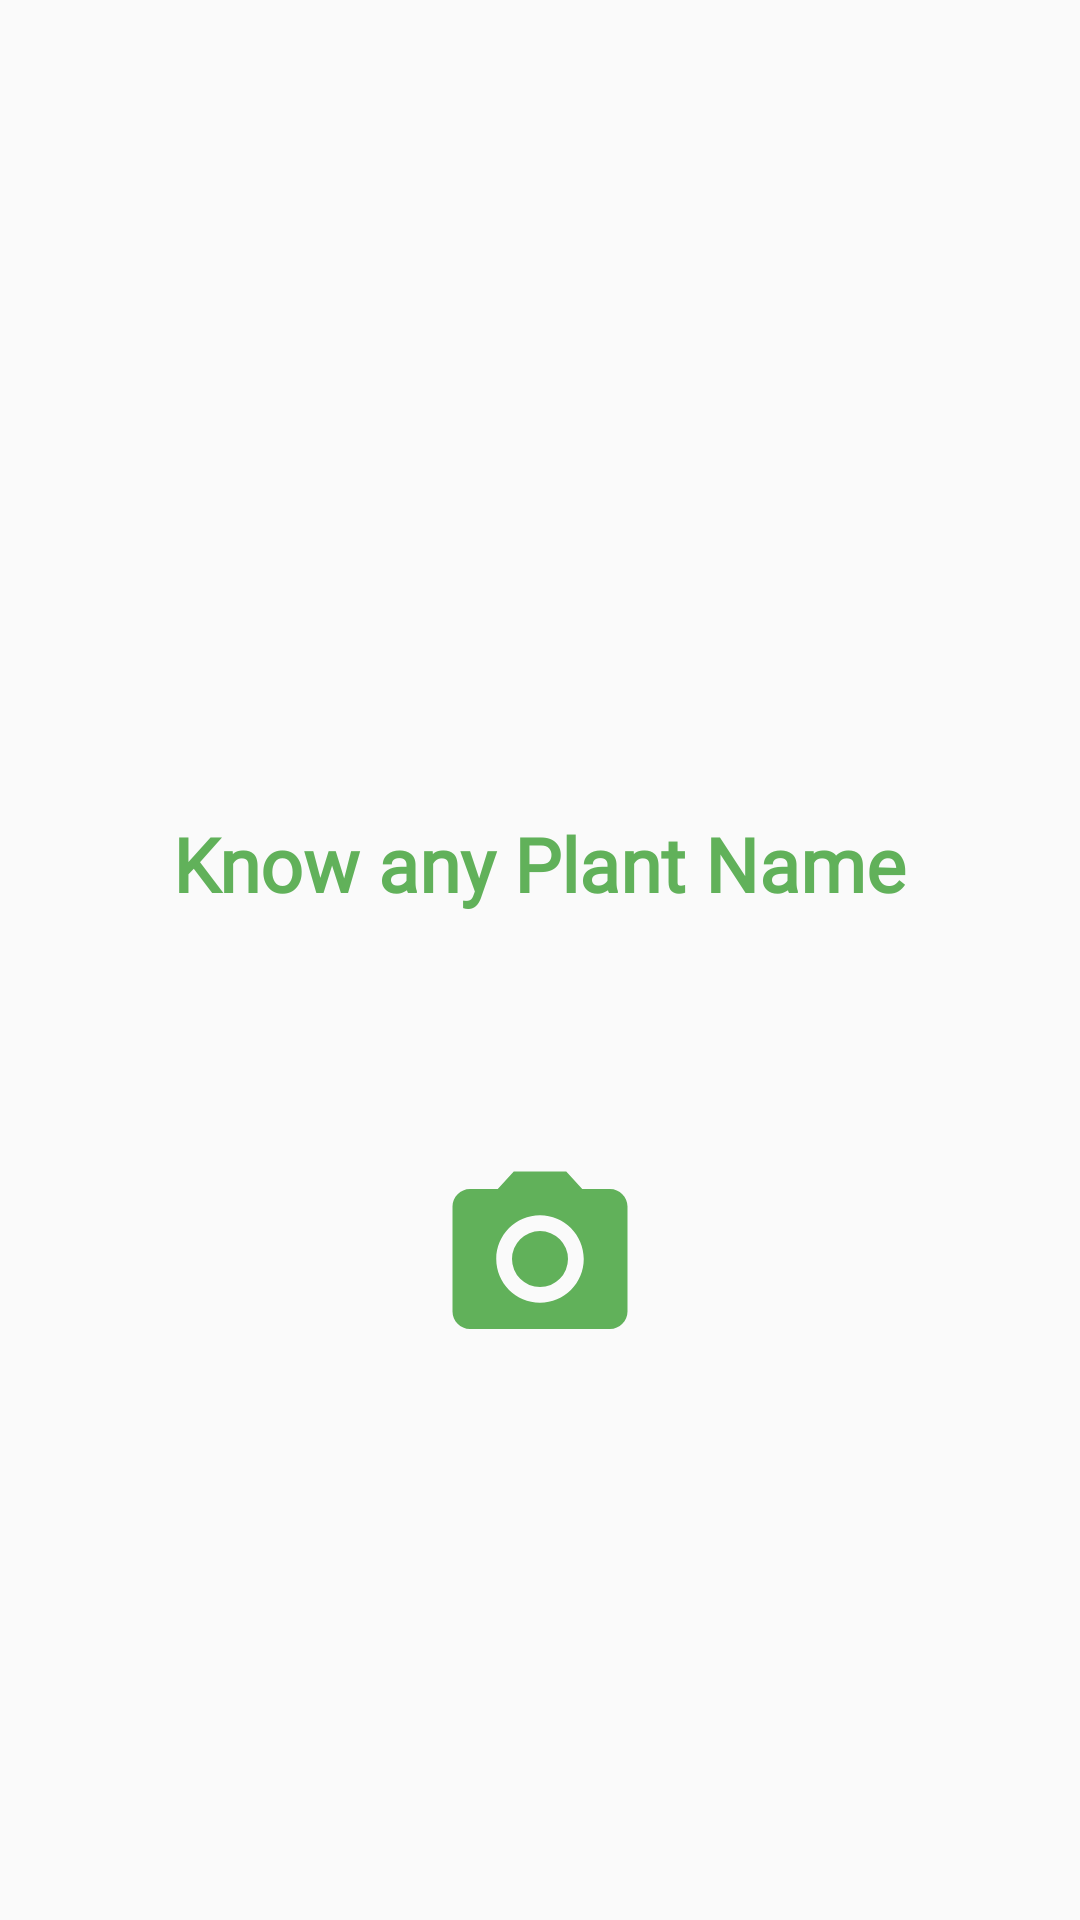

Icons on this 1080px×1920px Android screen, each with the point to tap as (x,y):
camera: (540,1250)
